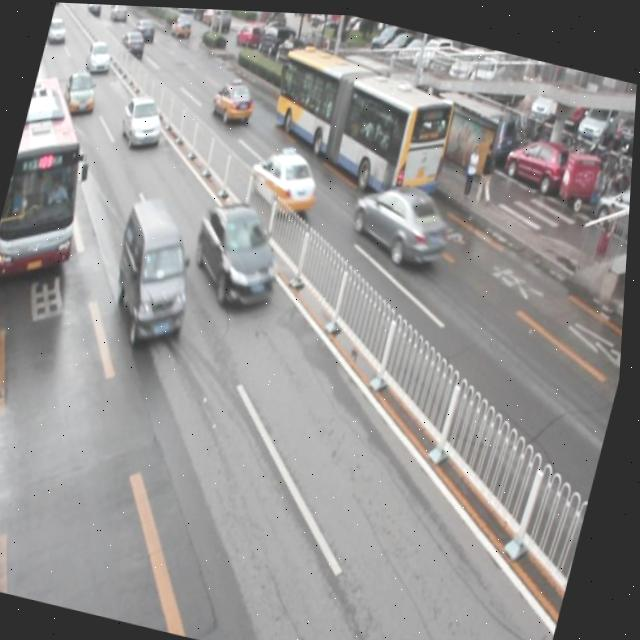car: (187, 192, 297, 314), (346, 175, 462, 270), (246, 135, 327, 216), (117, 88, 170, 151), (209, 72, 260, 125), (61, 65, 104, 116)
truck: (103, 189, 216, 351)
van: (257, 34, 462, 202), (0, 73, 114, 294)
